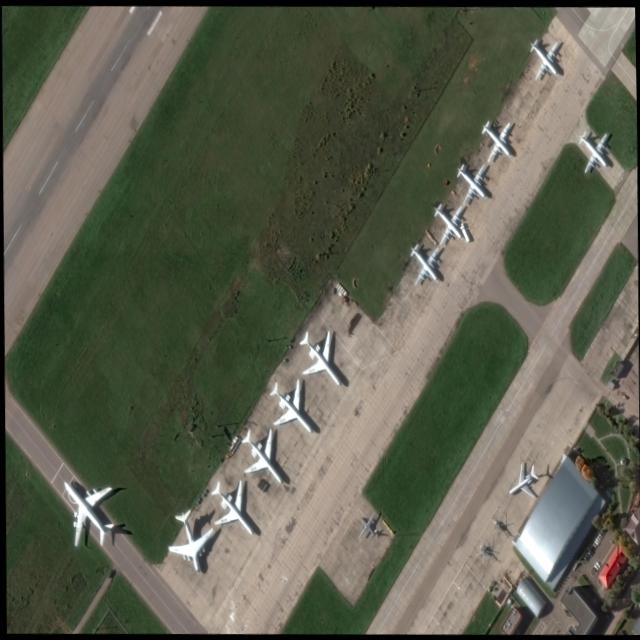plane: (45, 454, 126, 564), (200, 464, 266, 556), (289, 315, 354, 406), (230, 414, 296, 502), (259, 366, 325, 454), (161, 502, 221, 585), (569, 116, 618, 185), (400, 230, 448, 299), (472, 107, 521, 174), (446, 149, 495, 216), (423, 190, 471, 256), (520, 25, 567, 92), (503, 458, 540, 510), (352, 507, 380, 548)
small-vehicle: (592, 563, 597, 570), (594, 561, 599, 567), (593, 539, 598, 545), (594, 536, 598, 543), (595, 535, 600, 540), (586, 550, 590, 556), (592, 566, 596, 571), (597, 533, 601, 538), (592, 542, 596, 547)
